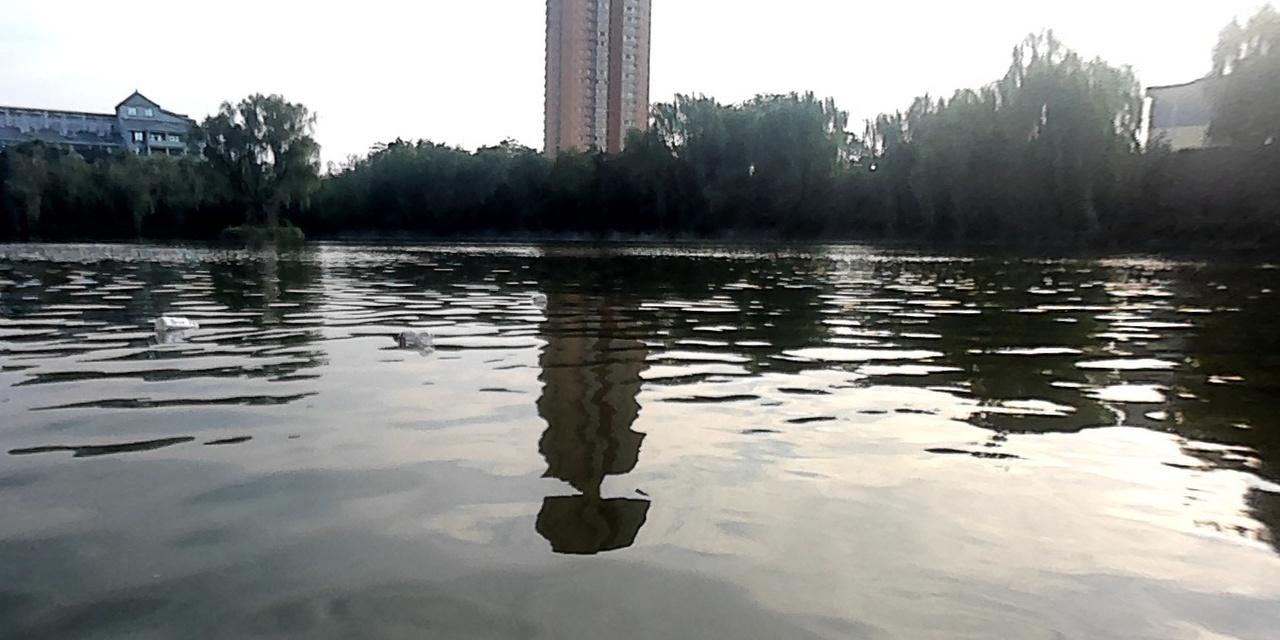bottle: (152, 315, 199, 332), (391, 328, 430, 348), (530, 292, 545, 305)
